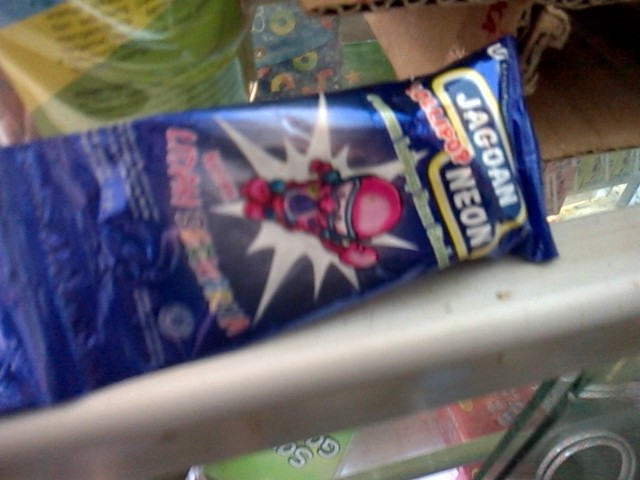jagoan neon: (21, 35, 559, 385)
